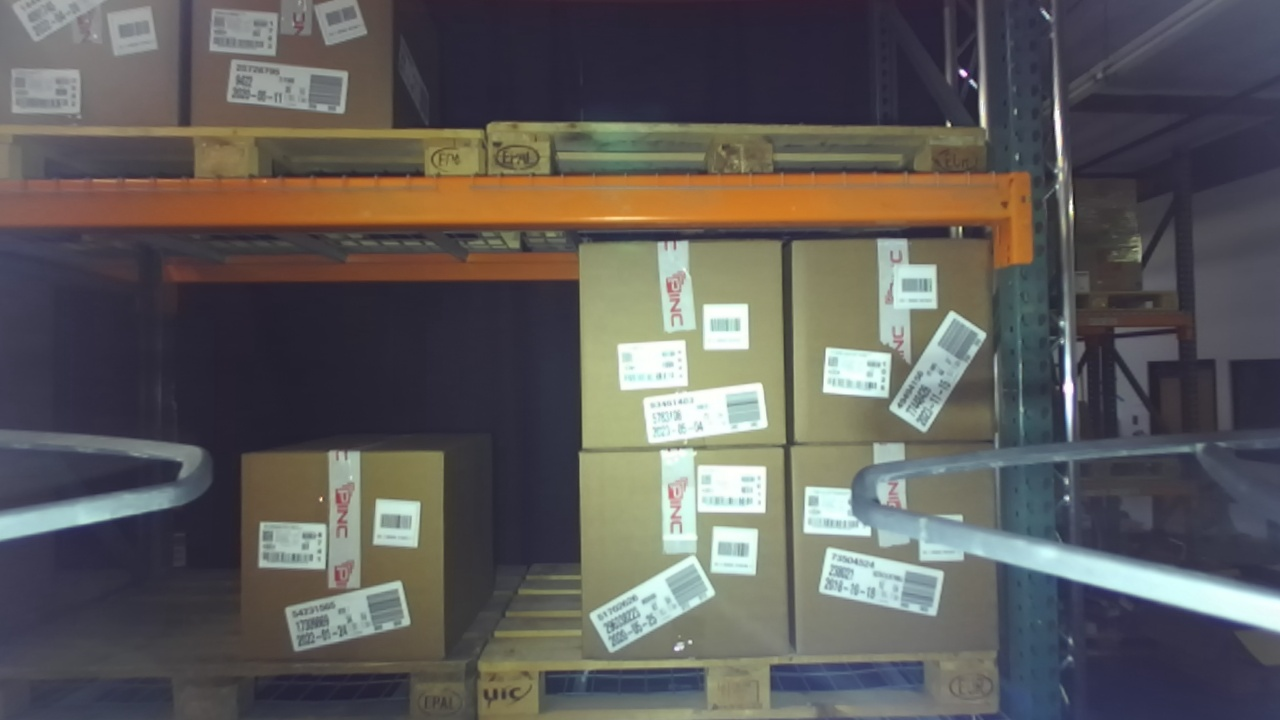box: (759, 417, 1023, 687), (758, 201, 1025, 465), (552, 432, 823, 687), (549, 214, 817, 469), (226, 424, 474, 682), (165, 1, 407, 159), (1, 4, 201, 152)
